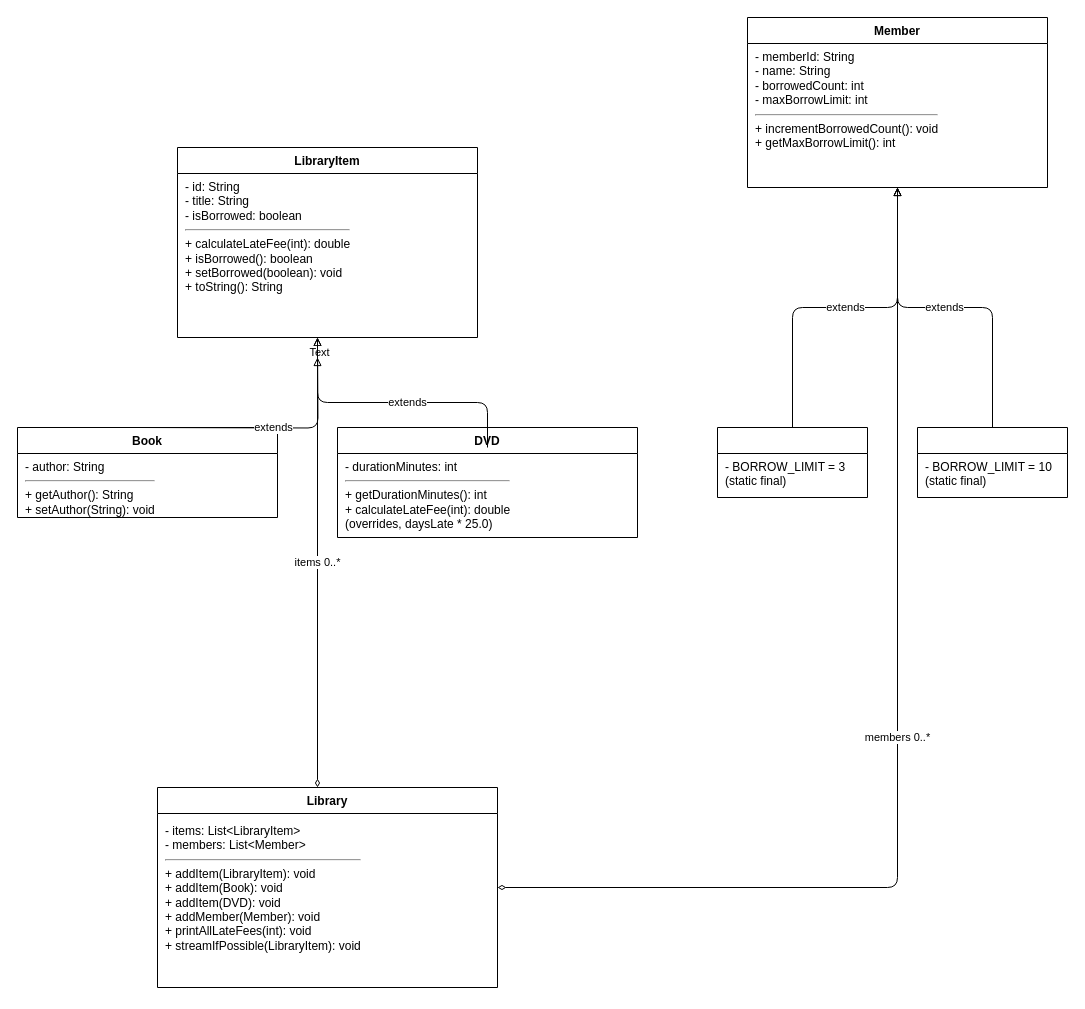
This 1085x1009 diagram has some shape labels left out. Here are the shapes that lost their labels. From the top down, the box of each, then its label:
(716, 426, 868, 498): Student
(916, 426, 1068, 498): Staff
